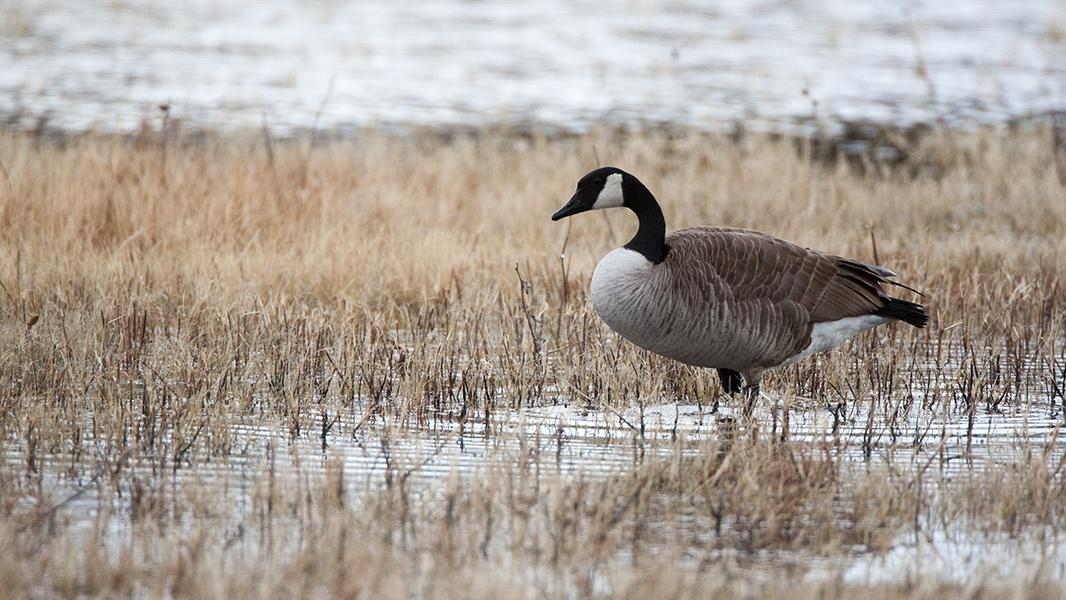Canadian-Goose: (551, 167, 924, 401)
